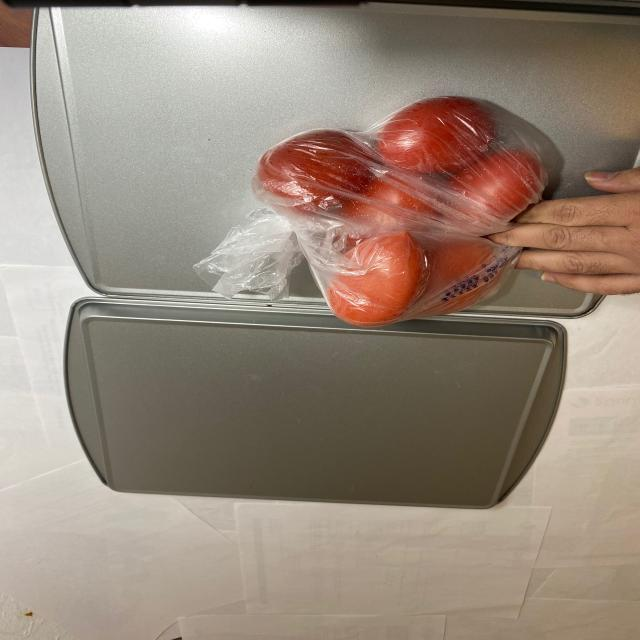tomato: (232, 99, 544, 327)
